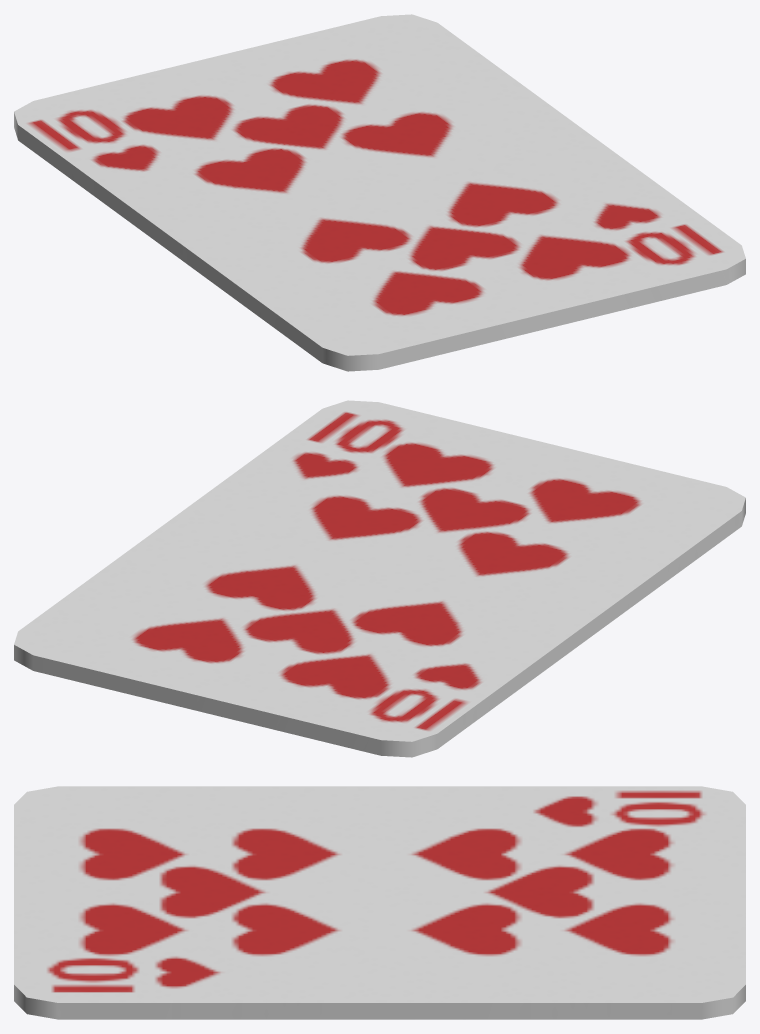
Rendered from Karta_10K.fbx.
The picture shows the model from 3 angles, top to bottom: view 1: azimuth 30°, elevation 25°; view 2: azimuth 150°, elevation 25°; view 3: azimuth 270°, elevation 25°; orthographic projection. The views are drawn at different scales.
Visible parts, largest first — view 1: KARTA; view 2: KARTA; view 3: KARTA.
Part boxes in pixels (x1,y1,x2,y2): KARTA: (14,14,745,371); KARTA: (14,400,745,757); KARTA: (14,786,745,1019).
Bounding box in the file's own units: 840 × 30 × 1200.
